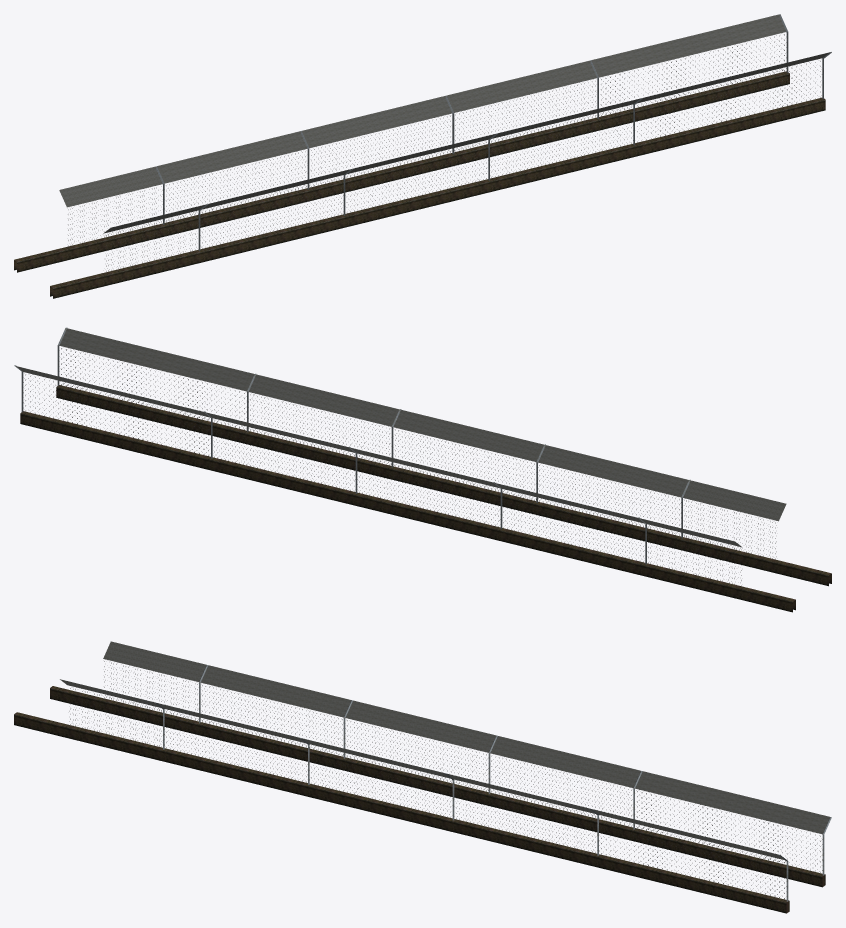
The model's file is vegaswtrainfence03.obj.
3 renders of one model, top to bottom at view 1: azimuth 30°, elevation 25°; view 2: azimuth 150°, elevation 25°; view 3: azimuth 330°, elevation 25°, orthographic.
Parts seen in each view (by area): view 1: vegaswtrainfence03; view 2: vegaswtrainfence03; view 3: vegaswtrainfence03.
Boxes of the visible parts, bbox=[...] form: vegaswtrainfence03: bbox=[14, 14, 831, 298]; vegaswtrainfence03: bbox=[14, 327, 831, 612]; vegaswtrainfence03: bbox=[14, 641, 831, 913].
Bounding box in the file's own units: 78.69 × 6.15 × 9.24.
Materials: 4 (4 with a texture image).
